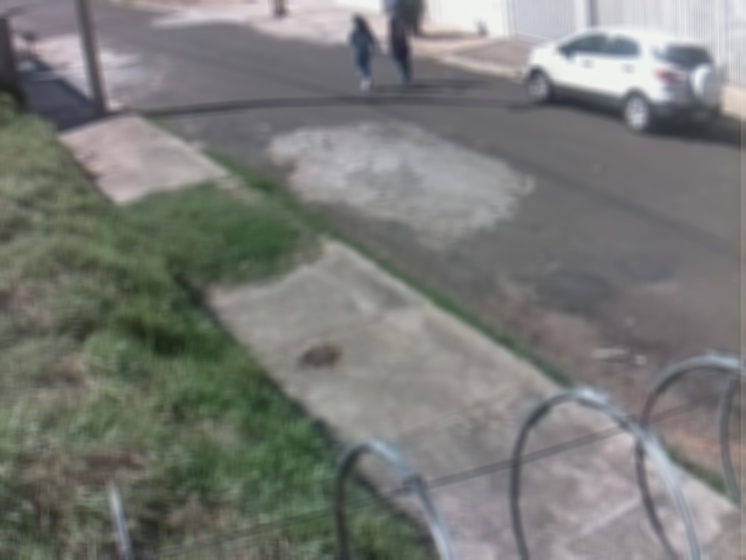person: (347, 13, 381, 91), (386, 2, 412, 85)
